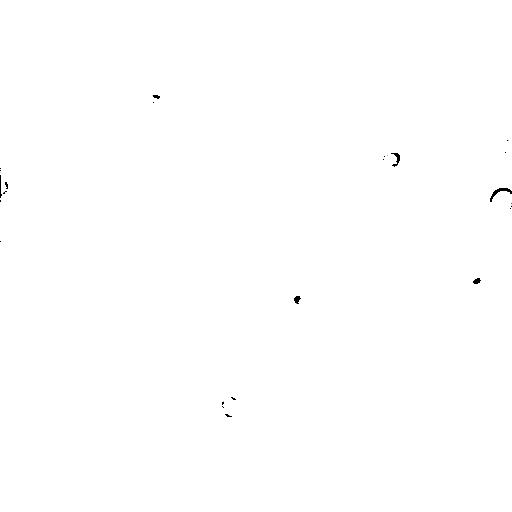micro-algae: (386, 87, 497, 201), (278, 277, 380, 383), (467, 311, 512, 401), (412, 35, 459, 79), (455, 261, 492, 297), (217, 135, 249, 169), (237, 477, 270, 505), (285, 285, 315, 312), (189, 175, 215, 200), (488, 186, 511, 213), (243, 7, 267, 31), (351, 369, 373, 395), (219, 393, 242, 417), (186, 423, 208, 442), (381, 150, 401, 170), (0, 175, 11, 197), (502, 135, 511, 159)
